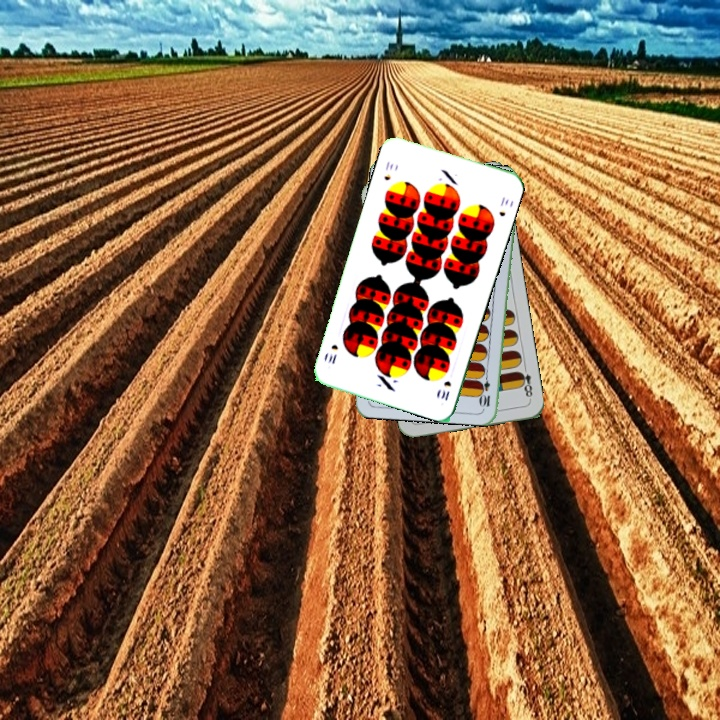E10: (478, 369, 493, 409)
E8: (515, 362, 535, 403)
S10: (437, 377, 454, 403), (380, 157, 396, 183)
